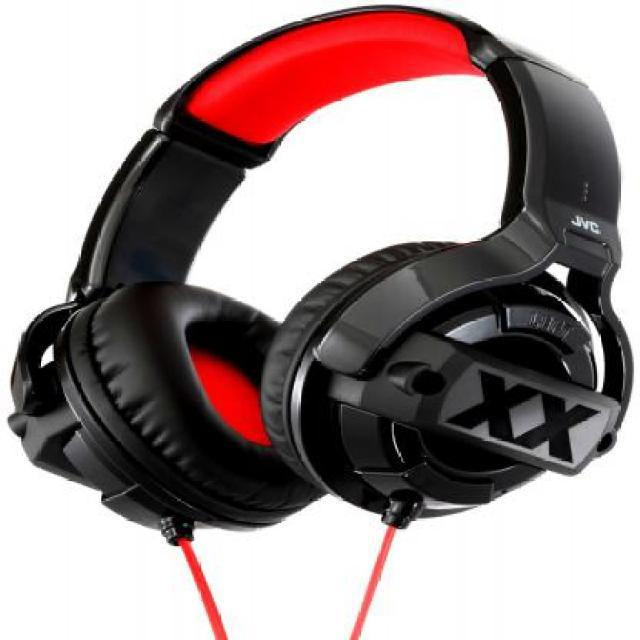earphone: (15, 15, 640, 575)
